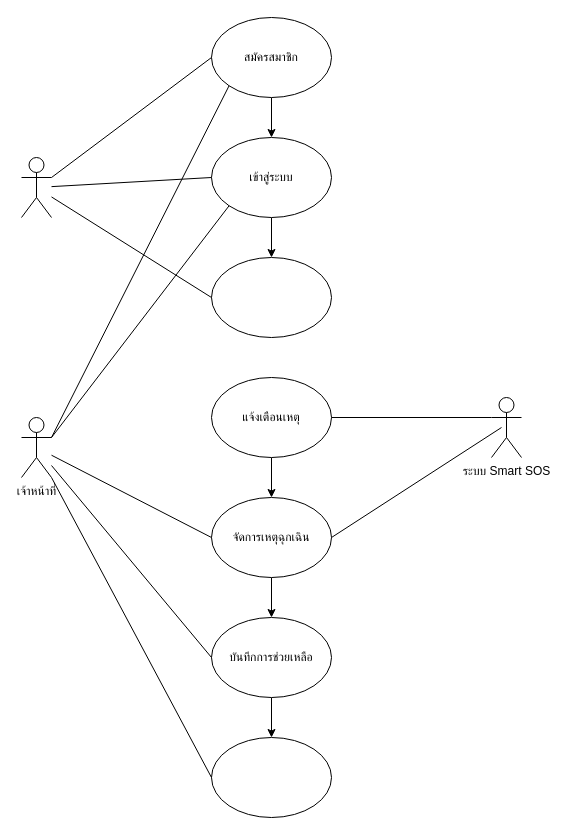
The diagram is 567 pixels wide and 835 high, and some of its shapes have lost their labels. The box of each missing label's shape, as (x1, y1, x2, y2) in pixels:
นักศึกษา: (20, 156, 52, 218)
ออกรายงาน: (210, 736, 332, 818)
แจ้งเหตุฉุกเฉิน: (210, 256, 332, 338)
